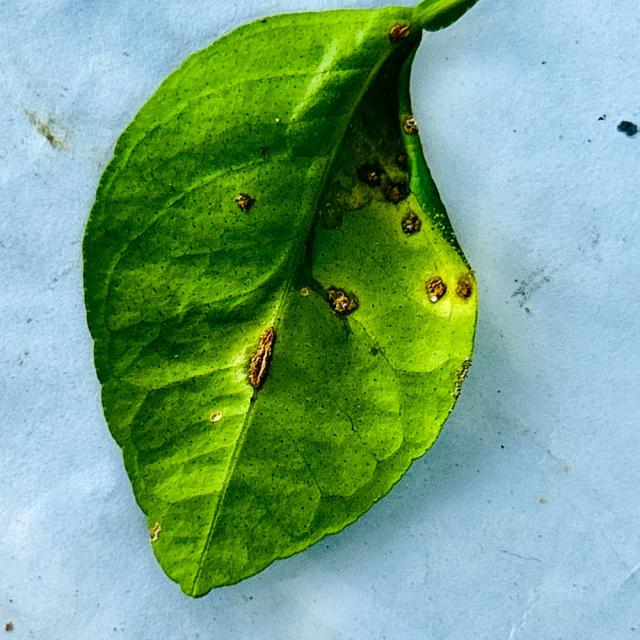Anthracnose: (246, 317, 280, 424), (229, 188, 260, 222)
Lemon: (82, 0, 481, 600)
